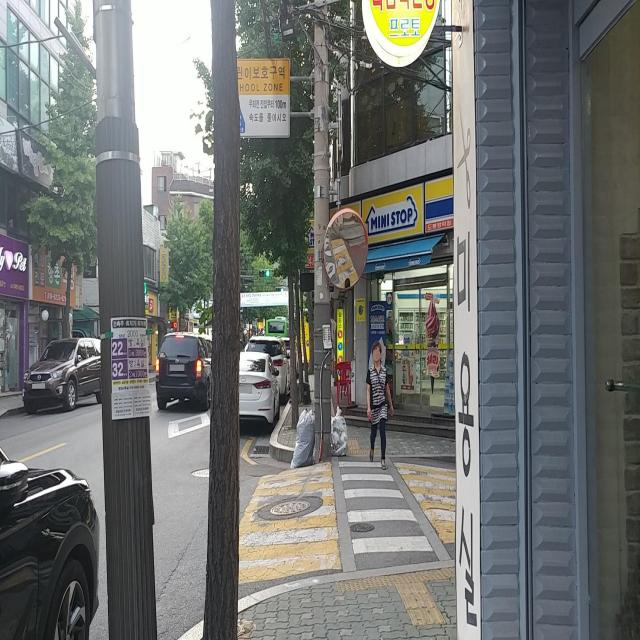횡단보도: (338, 461, 434, 554)
